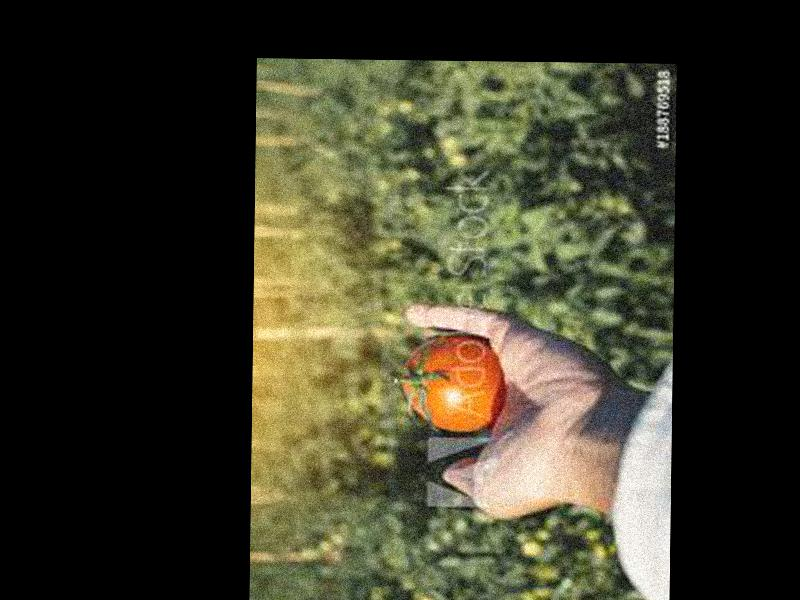Tomato: (403, 332, 501, 429)
